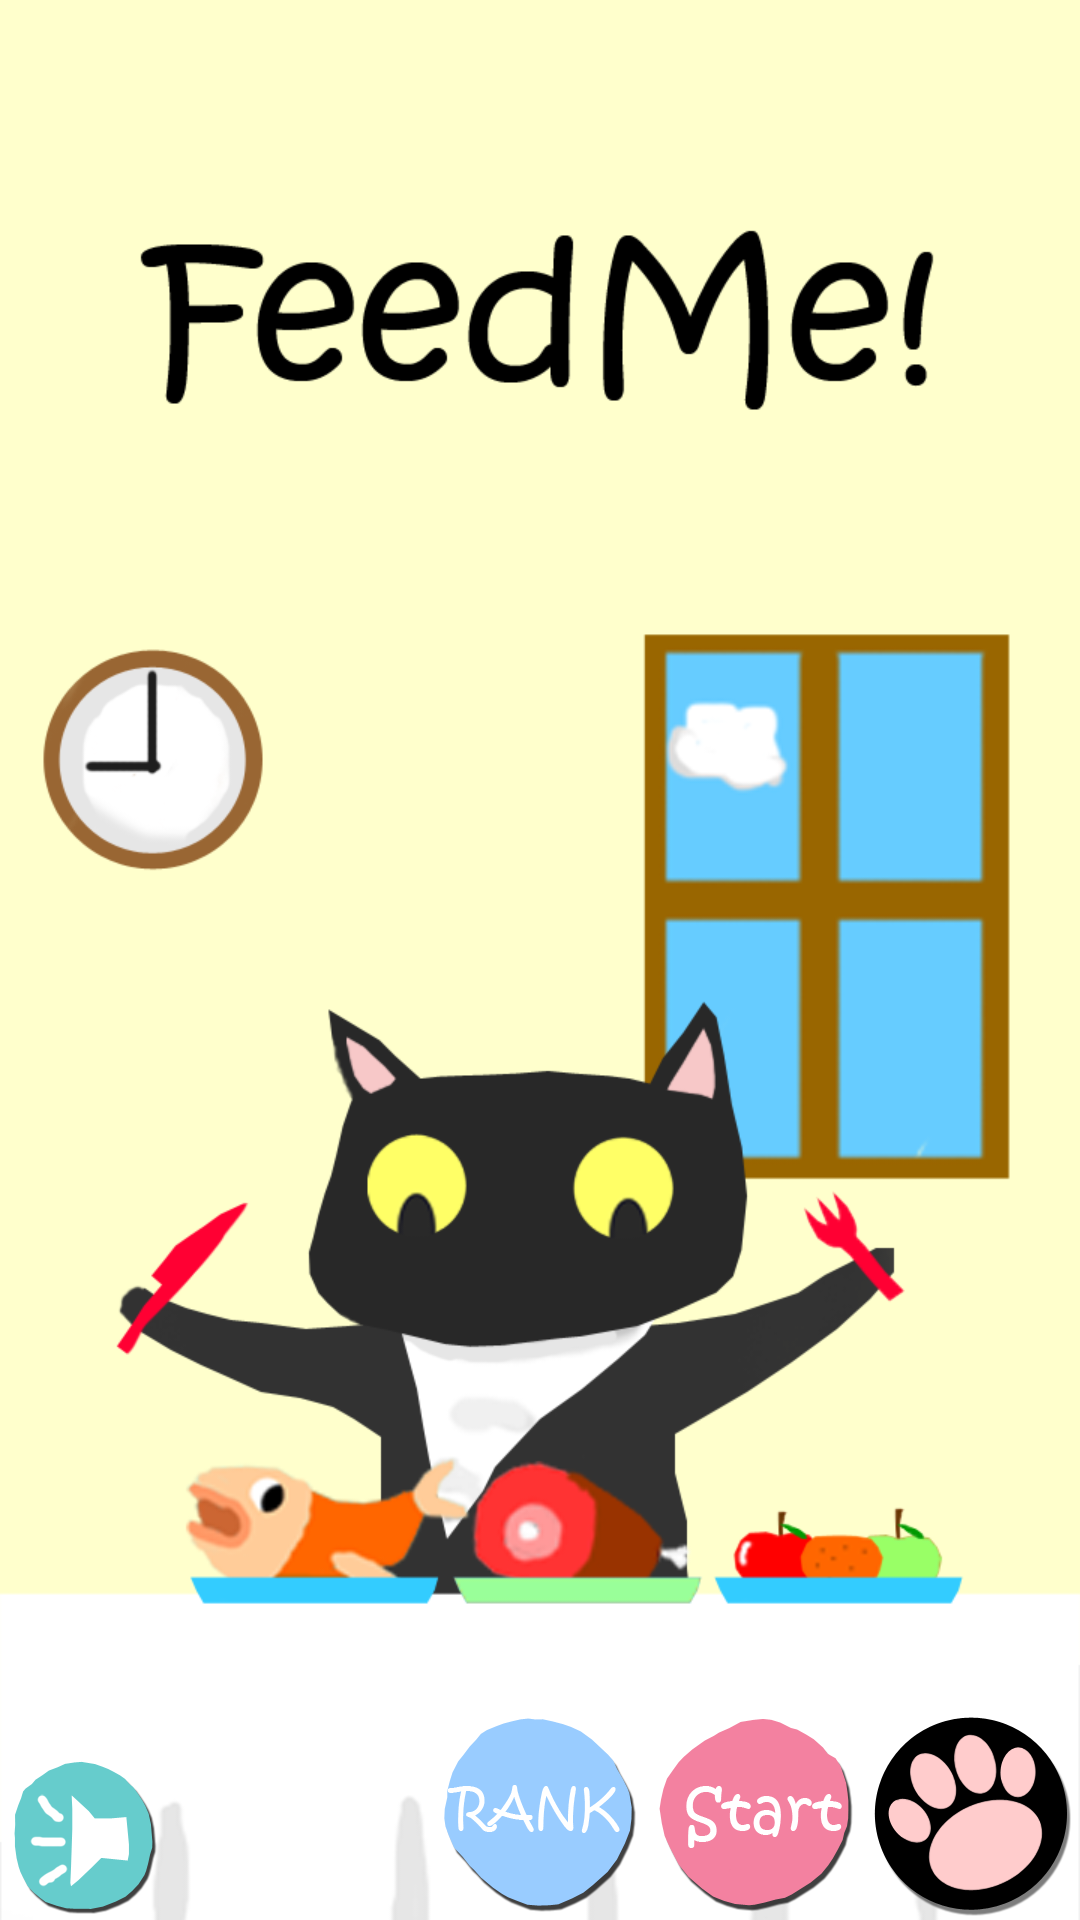

Named icons in this screenshot (1080px x 1920px) and their bounding boxes, [x1,y1,x2,y2]:
music on: [14,1762,156,1914]
